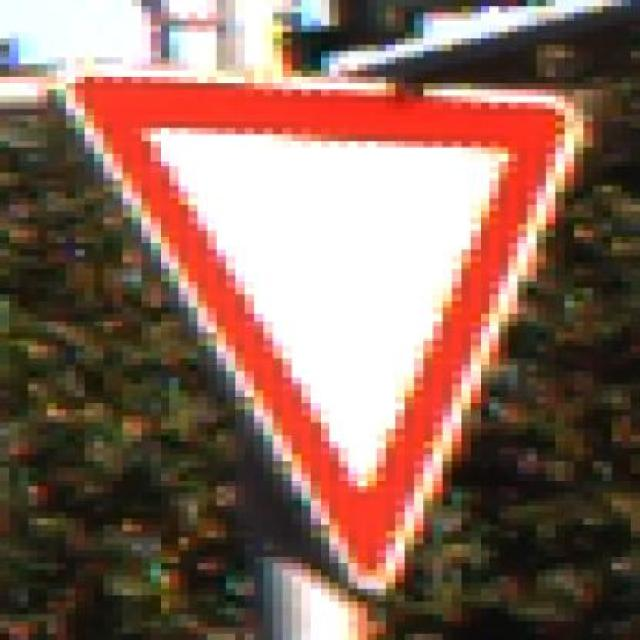Give Way: (38, 64, 612, 602)
